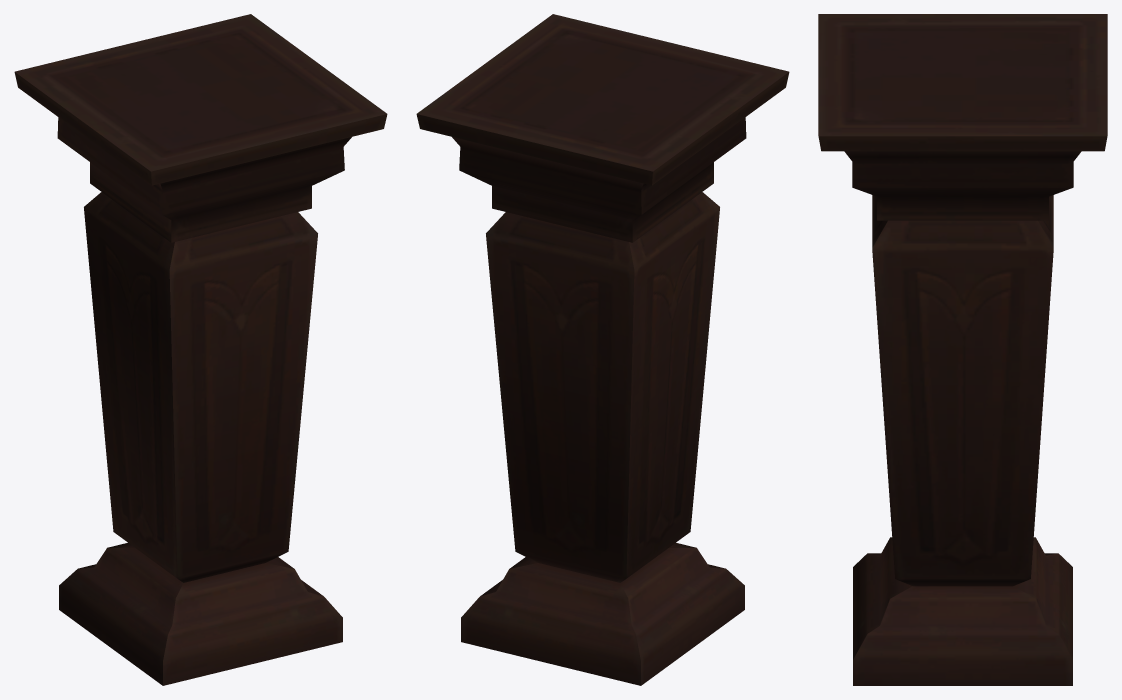
Rendered from Indoor_MdProps_Knight_Squate01_Vo_1564_1.fbx.
3 renders of one model, left to right at view 1: azimuth 30°, elevation 25°; view 2: azimuth 150°, elevation 25°; view 3: azimuth 270°, elevation 25°, orthographic. The views are drawn at different scales.
Visible parts, largest first — view 1: Indoor_MdProps_Knight_Squate01_Vo_1564_1; view 2: Indoor_MdProps_Knight_Squate01_Vo_1564_1; view 3: Indoor_MdProps_Knight_Squate01_Vo_1564_1.
Boxes of the visible parts, <box> form: Indoor_MdProps_Knight_Squate01_Vo_1564_1: <box>14,14,387,685</box>; Indoor_MdProps_Knight_Squate01_Vo_1564_1: <box>416,14,789,685</box>; Indoor_MdProps_Knight_Squate01_Vo_1564_1: <box>818,14,1107,685</box>.
Size of the model in its own units: 0.6392 by 1.38 by 0.6392.
